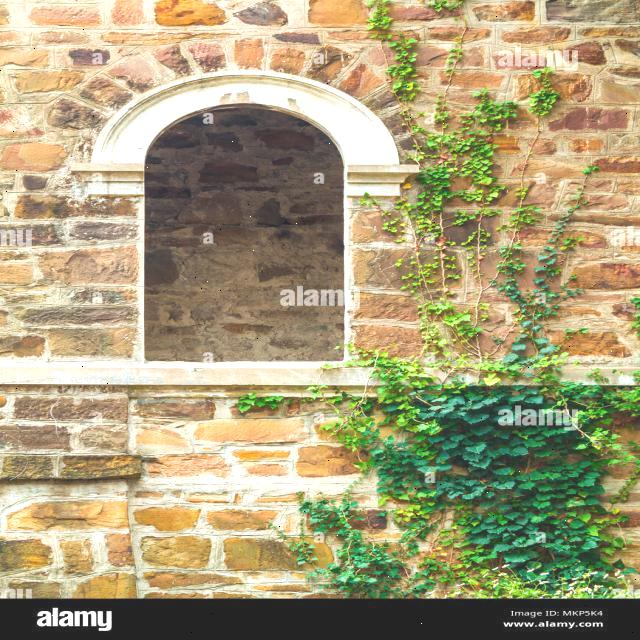vegetation: (246, 0, 639, 598)
